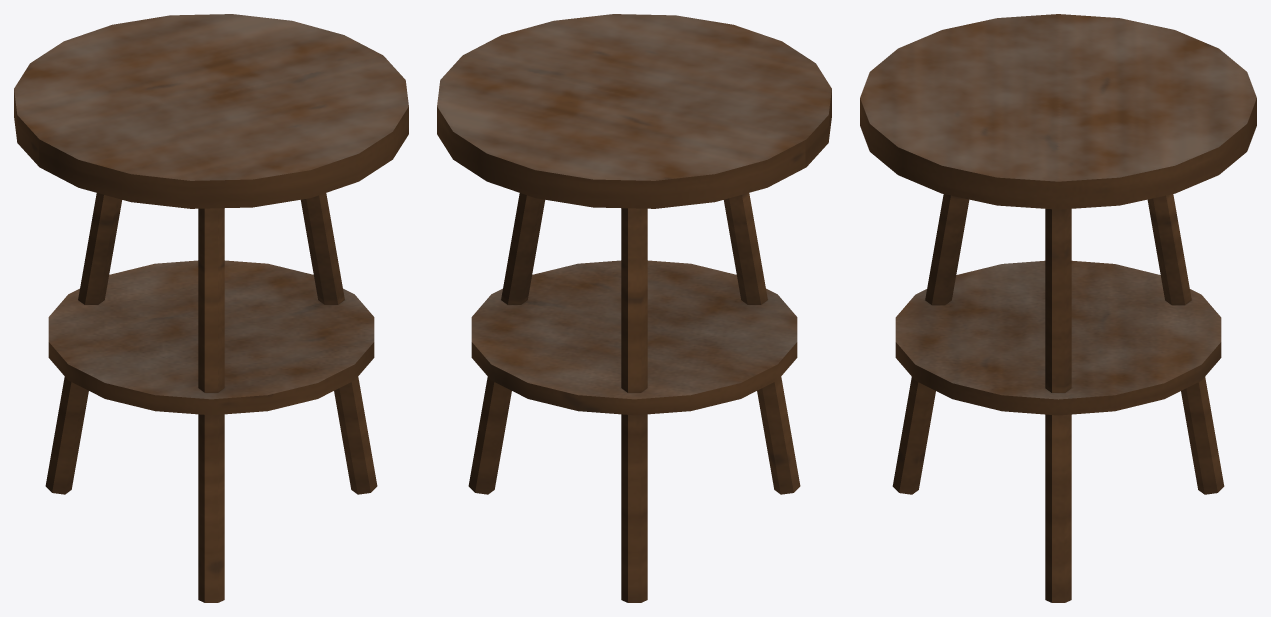
The model's file is H_SideTable.fbx.
The picture shows the model from 3 angles, left to right: view 1: azimuth 30°, elevation 25°; view 2: azimuth 150°, elevation 25°; view 3: azimuth 270°, elevation 25°; orthographic projection.
Parts seen in each view (by area): view 1: H_SideTable; view 2: H_SideTable; view 3: H_SideTable.
Boxes of the visible parts, x1,y1,x2,y2 form: H_SideTable: (14,14,408,602); H_SideTable: (437,14,831,602); H_SideTable: (860,14,1256,602).
Bounding box in the file's own units: 180 × 215 × 180.
Materials: 1 (1 with a texture image).
